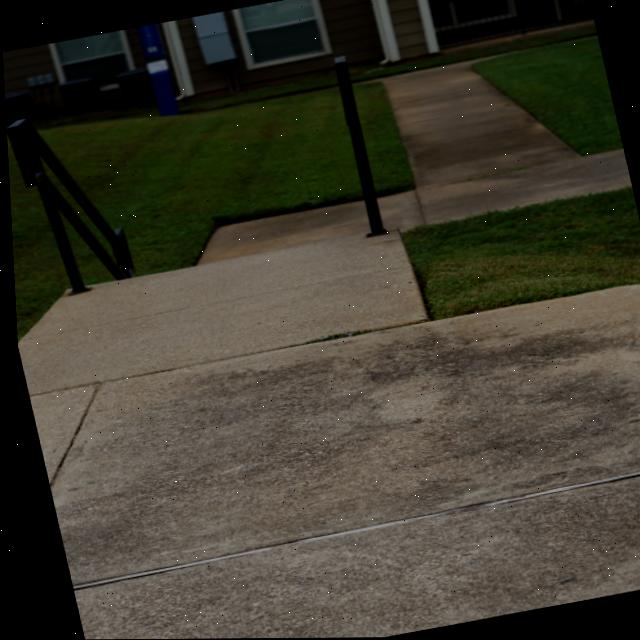Obstacle: (28, 126, 120, 247), (333, 56, 385, 237), (46, 182, 120, 279), (35, 179, 86, 294), (5, 119, 34, 187), (109, 228, 132, 277), (106, 267, 127, 279)
Sidewalk: (14, 234, 640, 640), (381, 63, 577, 194), (379, 150, 630, 232), (196, 202, 367, 263), (375, 191, 421, 232)
